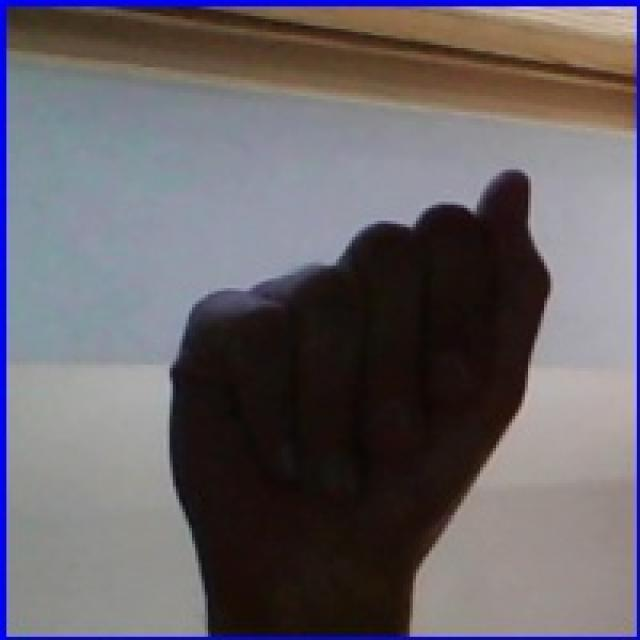Letra A: (155, 163, 570, 613)
